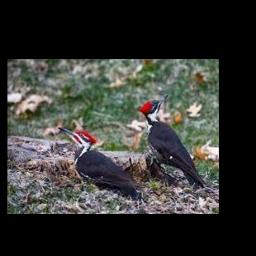Woodpecker: (138, 95, 211, 192), (59, 127, 146, 194)
